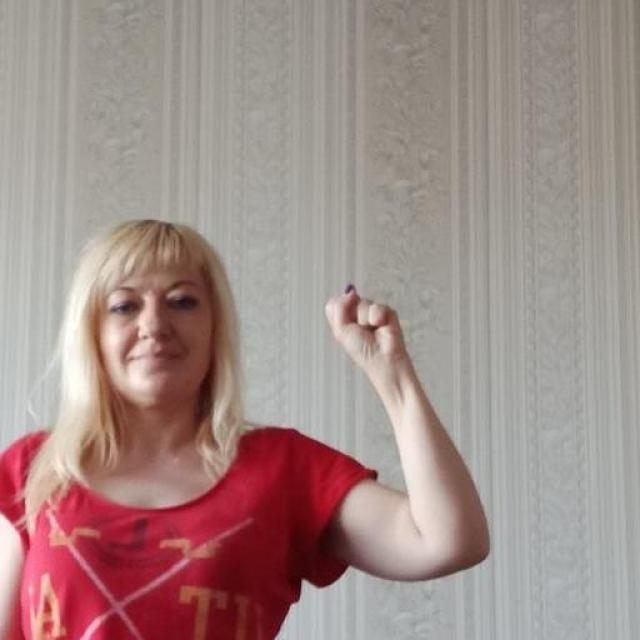hand: (322, 281, 410, 380)
